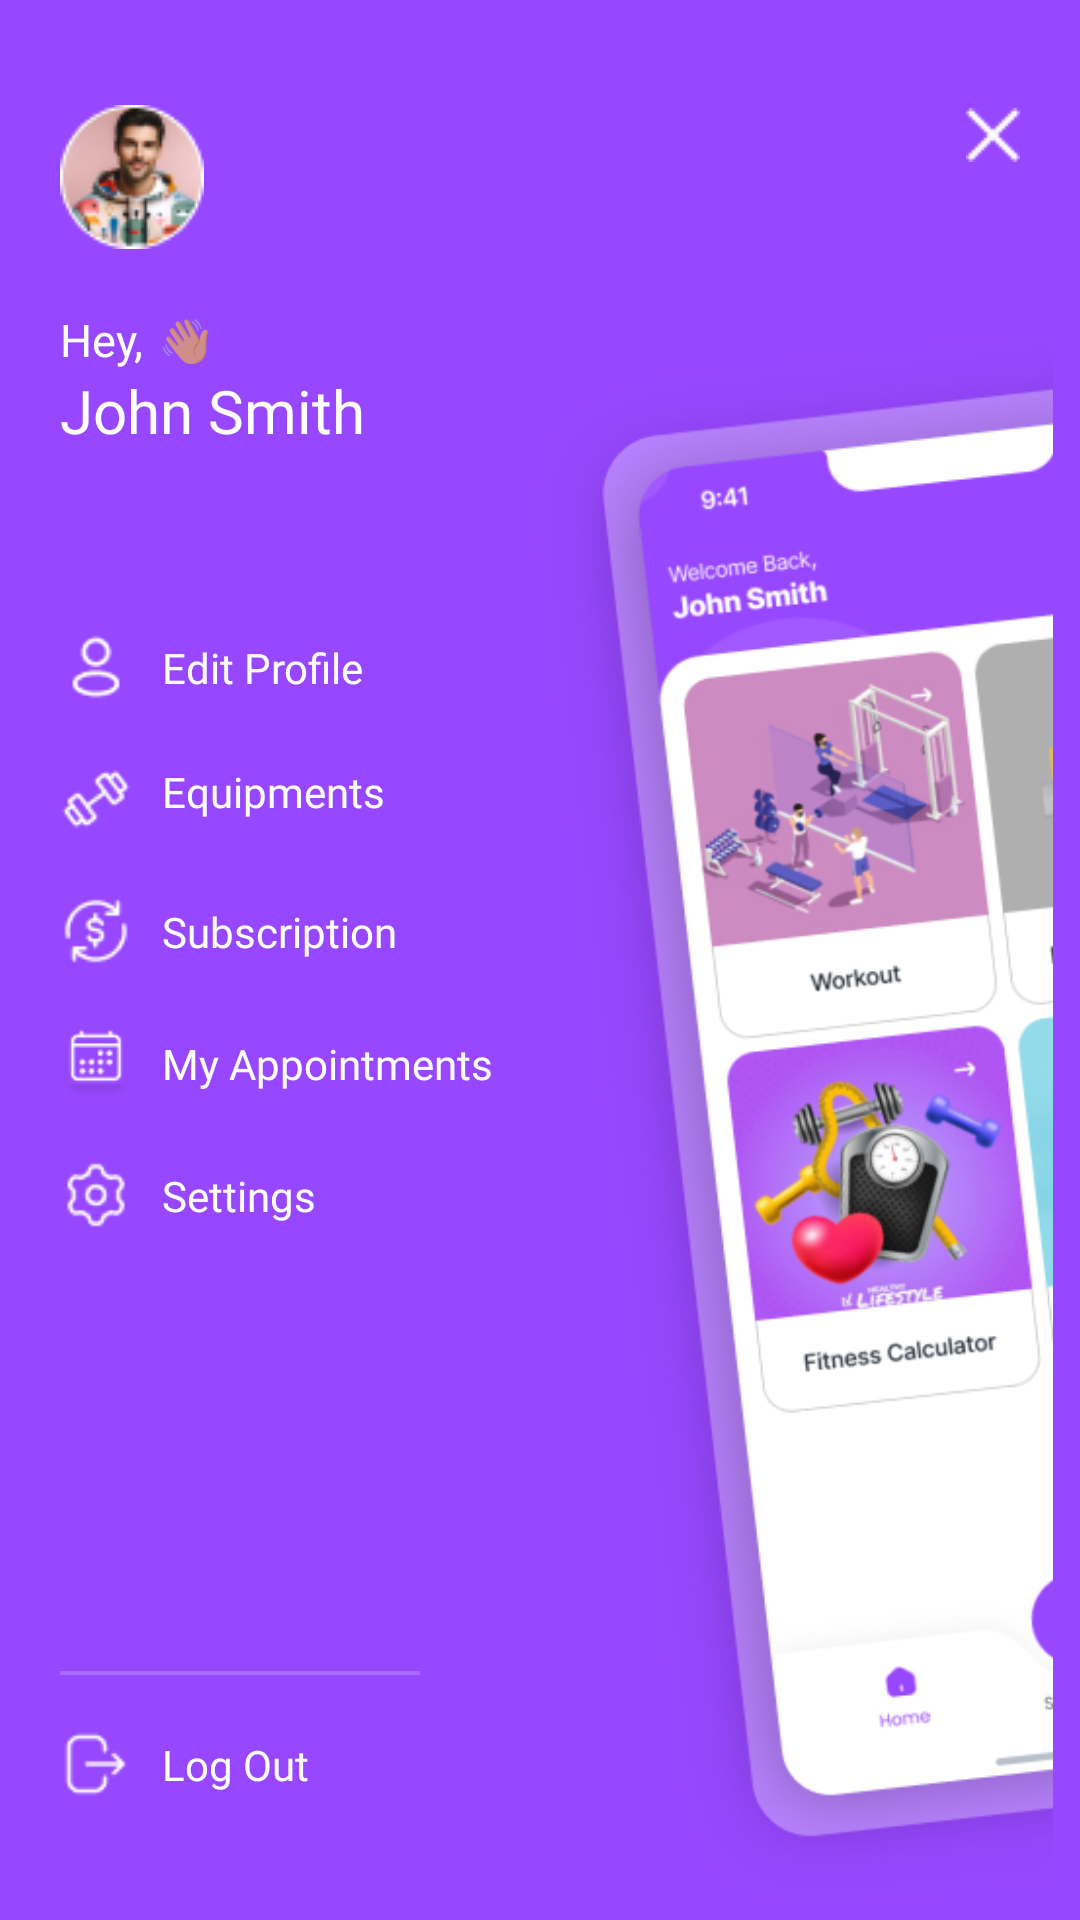

Icon click points for this 1080x1920 phone screenshot, format point (x, y):
close: point (993, 135)
user profile: point (132, 177)
